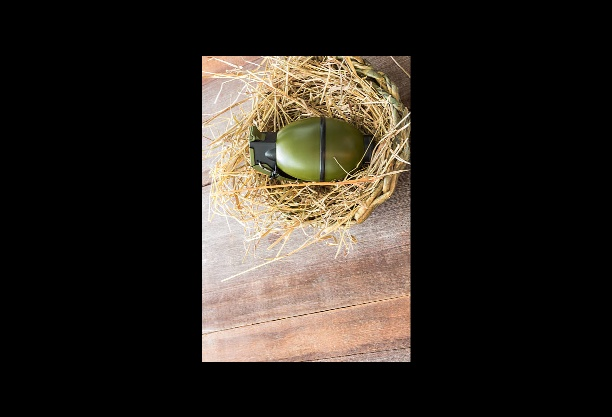e1: (244, 113, 383, 192)
